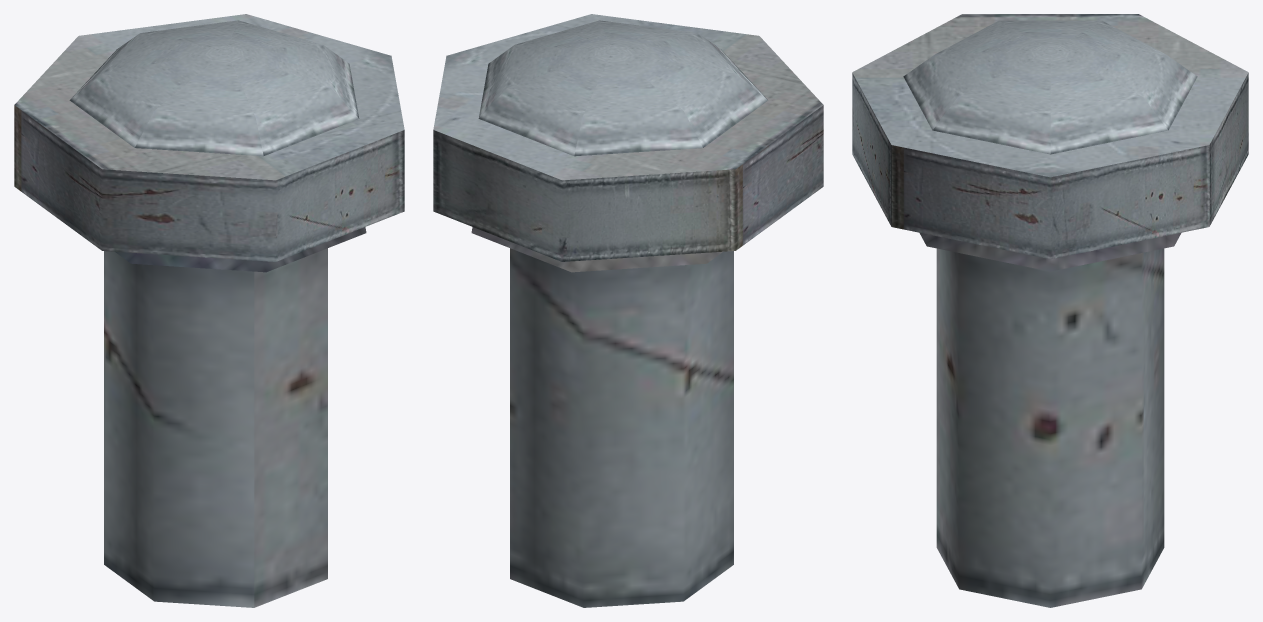
File: Airvent_2.fbx
3 renders of one model, left to right at view 1: azimuth 30°, elevation 25°; view 2: azimuth 150°, elevation 25°; view 3: azimuth 270°, elevation 25°, orthographic.
Visible parts, largest first — view 1: Airvent_2; view 2: Airvent_2; view 3: Airvent_2.
Boxes of the visible parts, x1,y1,x2,y2 form: Airvent_2: [14, 14, 404, 607]; Airvent_2: [433, 14, 823, 607]; Airvent_2: [852, 14, 1248, 607].
Bounding box in the file's own units: 46.63 × 68.01 × 47.83.
